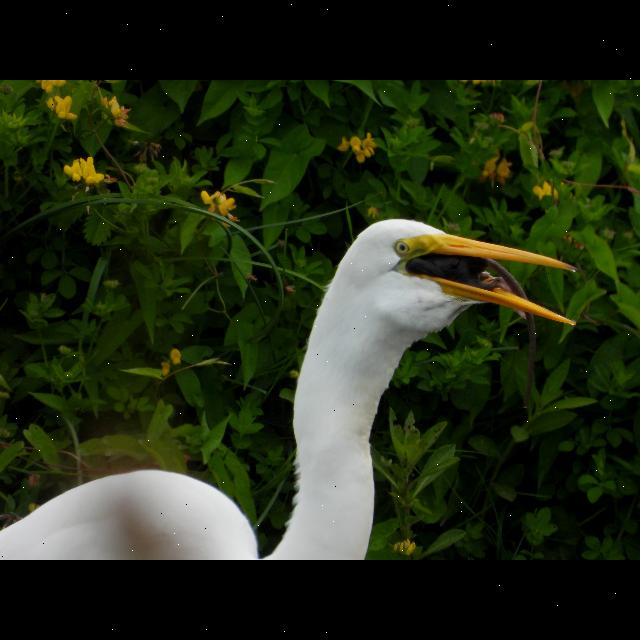egret: (0, 202, 584, 560)
